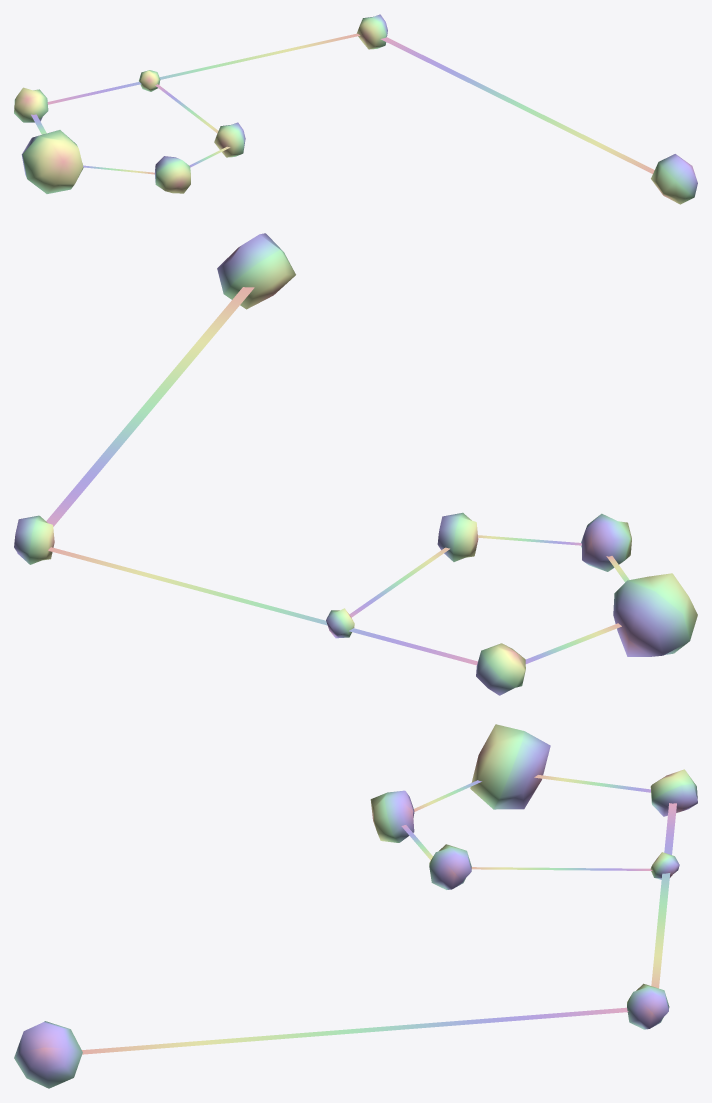
The model's file is ChomLoc.fbx.
The picture shows the model from 3 angles, top to bottom: view 1: azimuth 30°, elevation 25°; view 2: azimuth 150°, elevation 25°; view 3: azimuth 270°, elevation 25°; orthographic projection. The views are drawn at different scales.
Parts seen in each view (by area): view 1: ChomLoc; view 2: ChomLoc; view 3: ChomLoc.
Boxes of the visible parts, <box> form: ChomLoc: <box>14,14,697,204</box>; ChomLoc: <box>14,233,697,695</box>; ChomLoc: <box>14,724,697,1088</box>.
Size of the model in its own units: 3.88 by 3.52 by 0.41.
